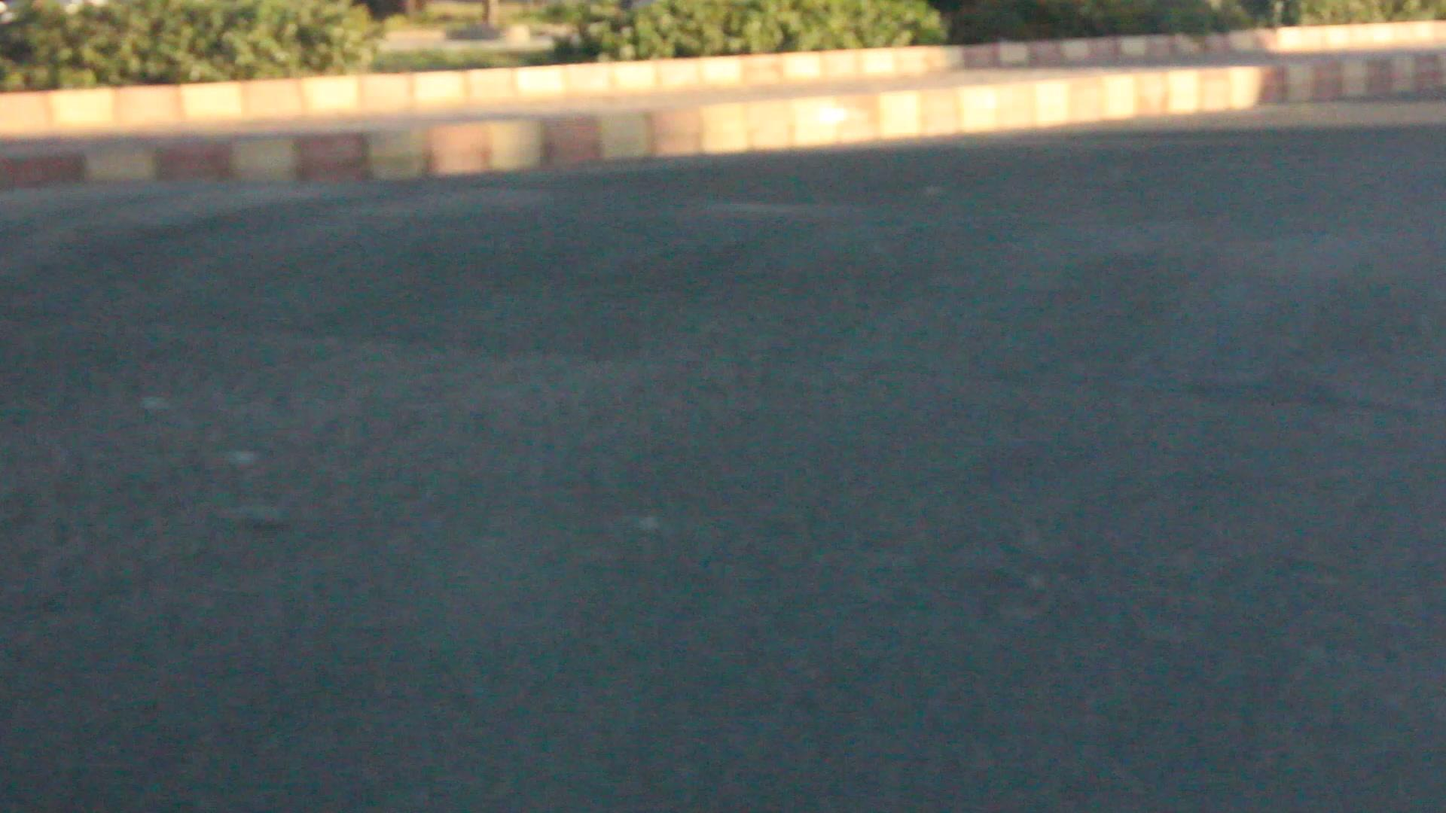Bump: (0, 175, 1445, 393)
